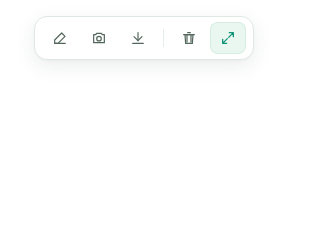
Test case: CanvasNodeToolbar › 展开截帧菜单并选中一项后回调对应位置
The width and height of the screenshot is (320, 243).
Click the button named "截取画面为图片" at (99, 38), box [81, 22, 117, 54]
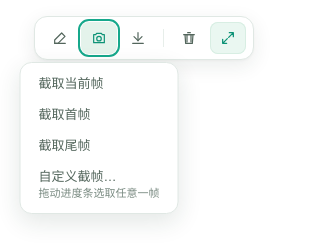
Click the menu item "截取尾帧" at (99, 146), box [26, 131, 172, 162]
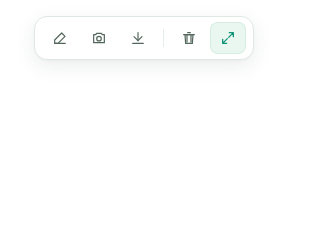
Expected: the menu is gone
